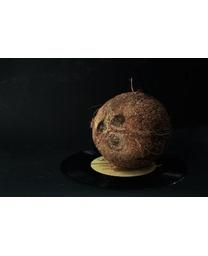coconut: (87, 90, 172, 175)
